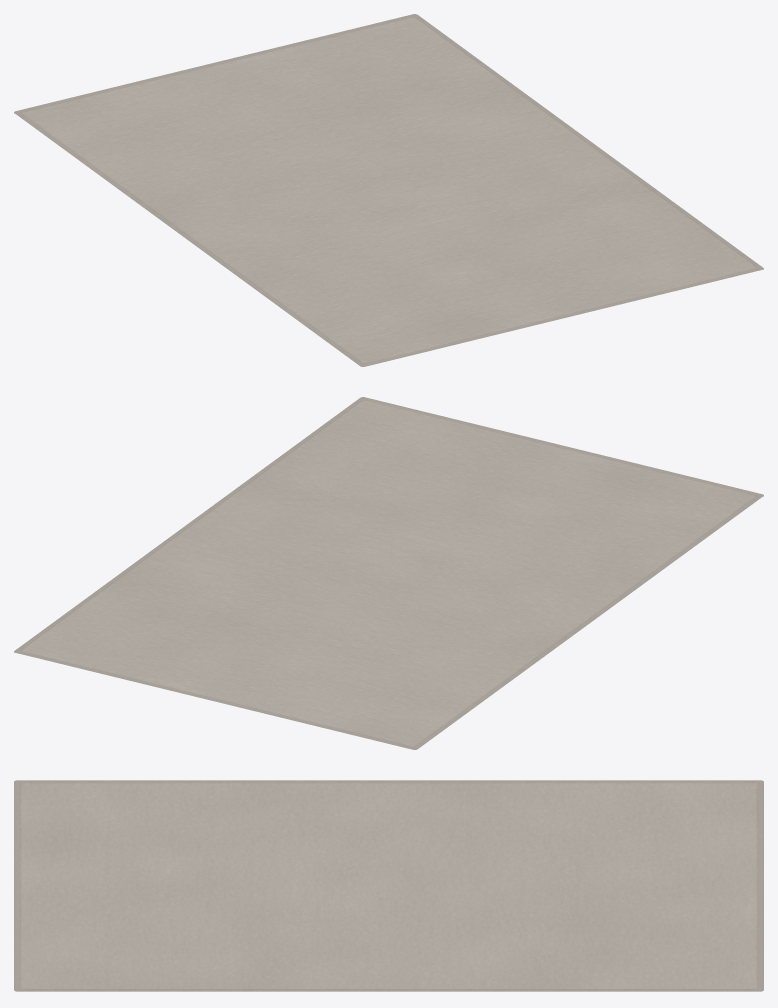
The model's file is beige_XL.glb.
The picture shows the model from 3 angles, top to bottom: view 1: azimuth 30°, elevation 25°; view 2: azimuth 150°, elevation 25°; view 3: azimuth 270°, elevation 25°; orthographic projection. The views are drawn at different scales.
Visible parts, largest first — view 1: reliv_beige_XL; view 2: reliv_beige_XL; view 3: reliv_beige_XL.
Part boxes in pixels (x1,y1,x2,y2): reliv_beige_XL: [14, 14, 763, 366]; reliv_beige_XL: [14, 397, 763, 749]; reliv_beige_XL: [14, 780, 763, 991].
Size of the model in its own units: 2 by 0.009 by 3.
2 materials, 1 textured.
